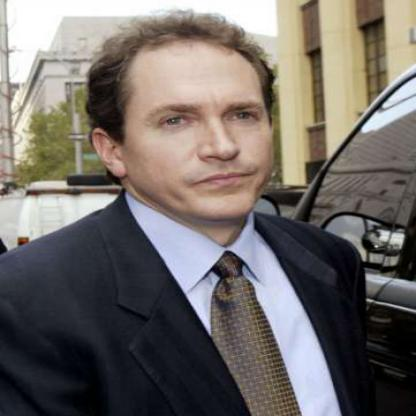face: (117, 28, 284, 229)
